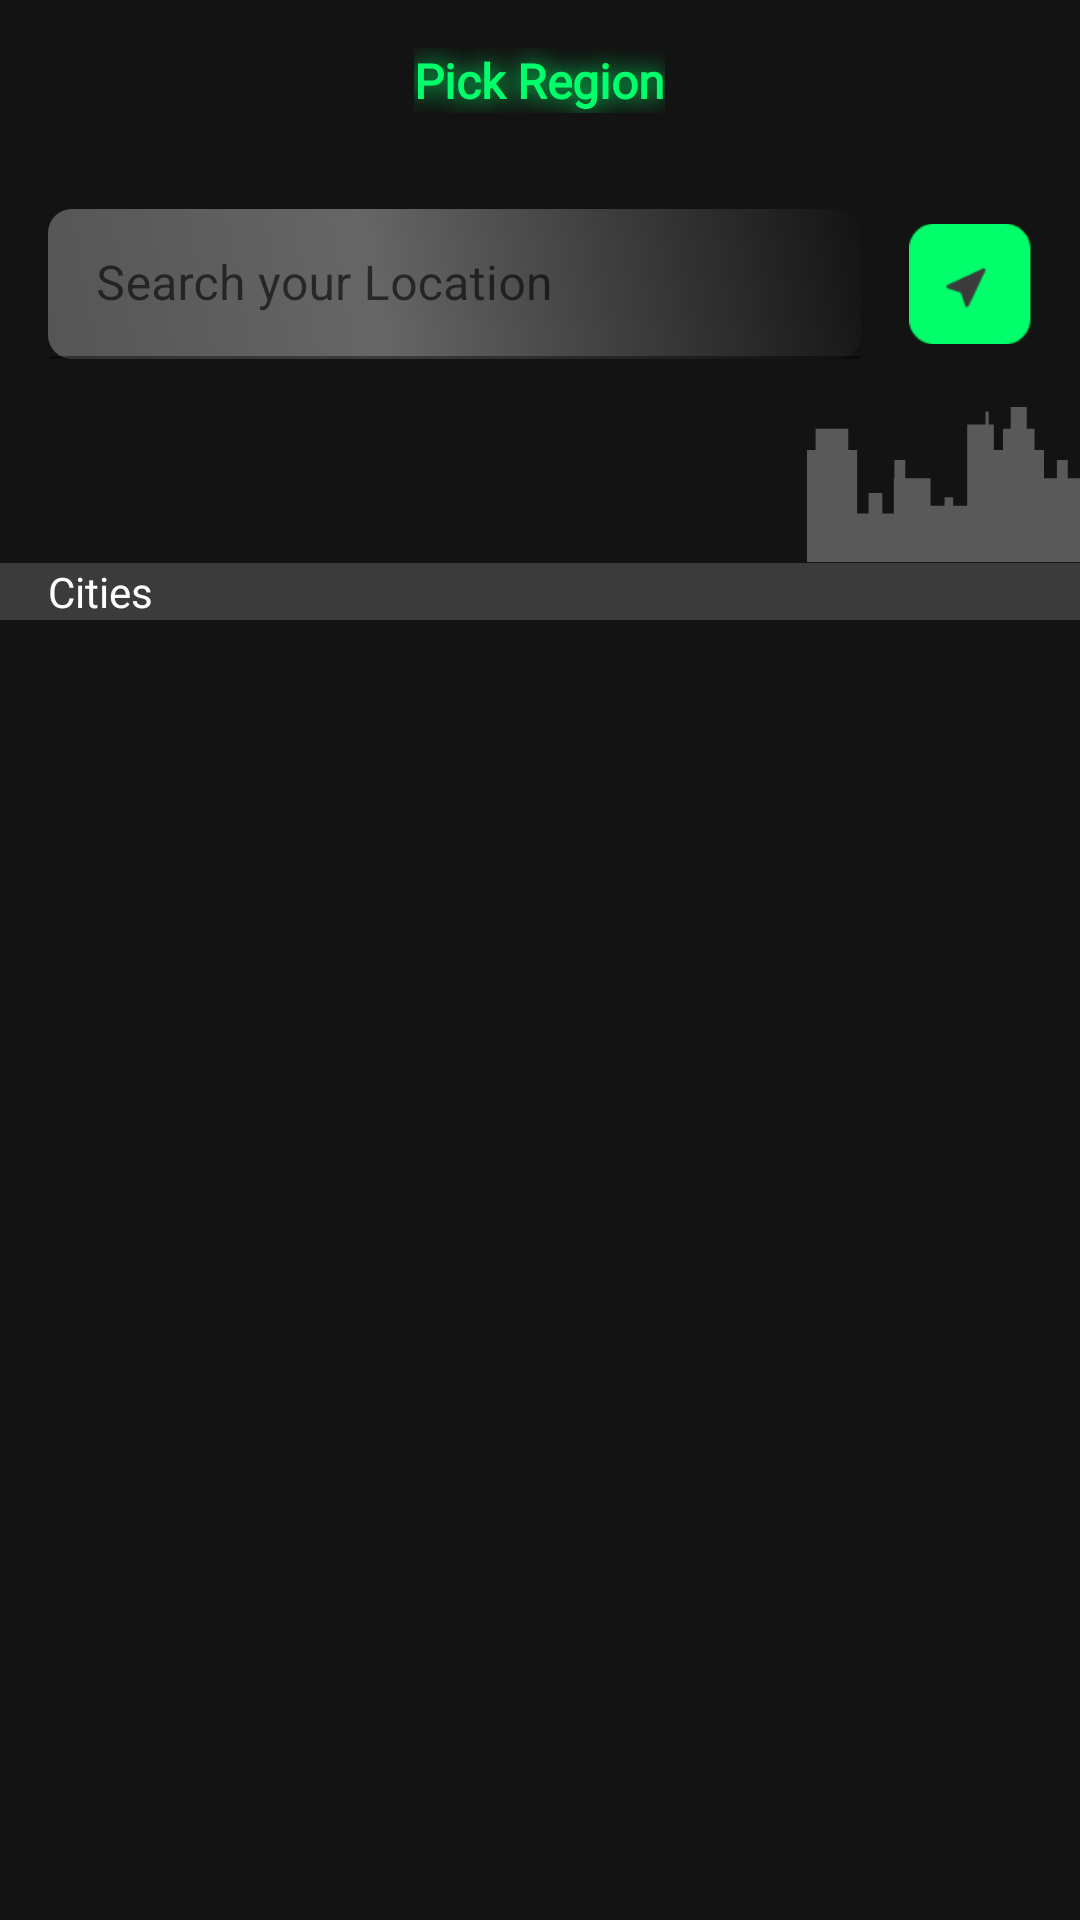

Where to tap for icons on this 1080x1920 app screen, as (x=x, y=y):
gridicons location: (x=970, y=284)
